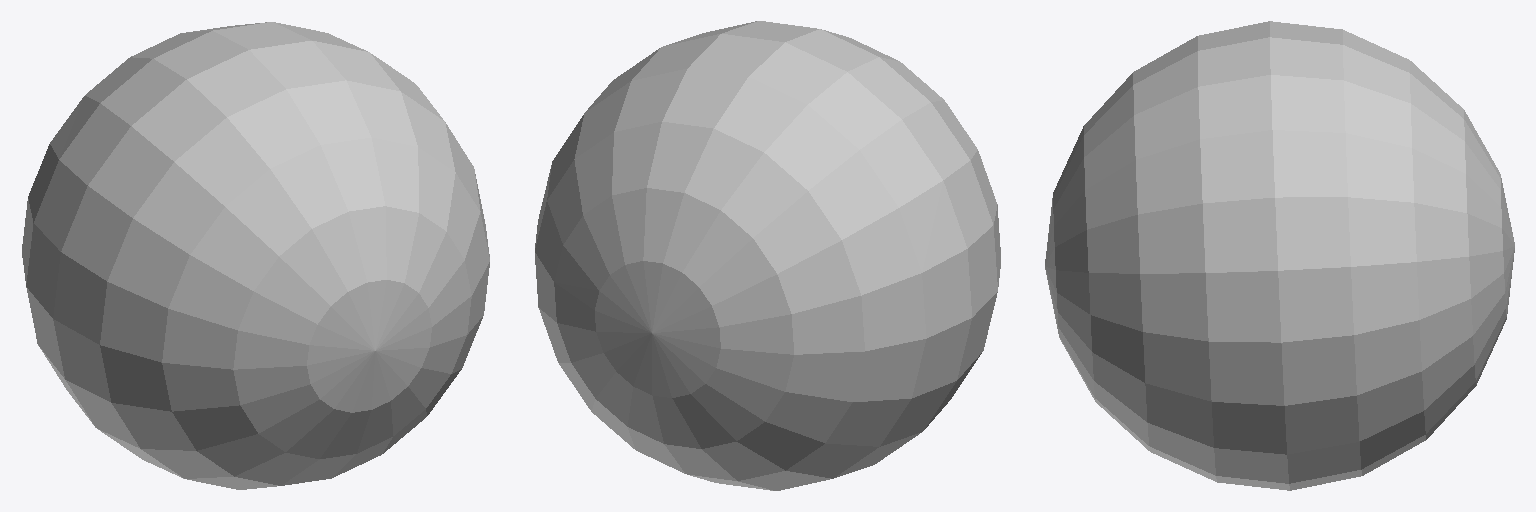
File: LWristYaw.obj
3 views of the same model, side by side, from view 1: azimuth 30°, elevation 25°; view 2: azimuth 150°, elevation 25°; view 3: azimuth 270°, elevation 25° (orthographic).
Parts seen in each view (by area): view 1: LWristYaw_LWristYaw; view 2: LWristYaw_LWristYaw; view 3: LWristYaw_LWristYaw.
Part boxes in pixels (x1,y1,x2,y2): LWristYaw_LWristYaw: (22, 22, 489, 489); LWristYaw_LWristYaw: (535, 21, 1000, 490); LWristYaw_LWristYaw: (1045, 21, 1514, 490).
Size of the model in its own units: 0.051 by 0.0509 by 0.051.